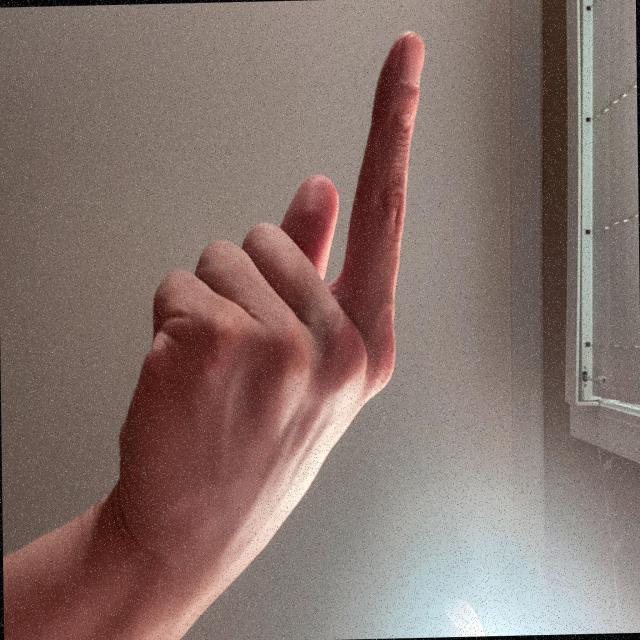G: (159, 264, 640, 640)
